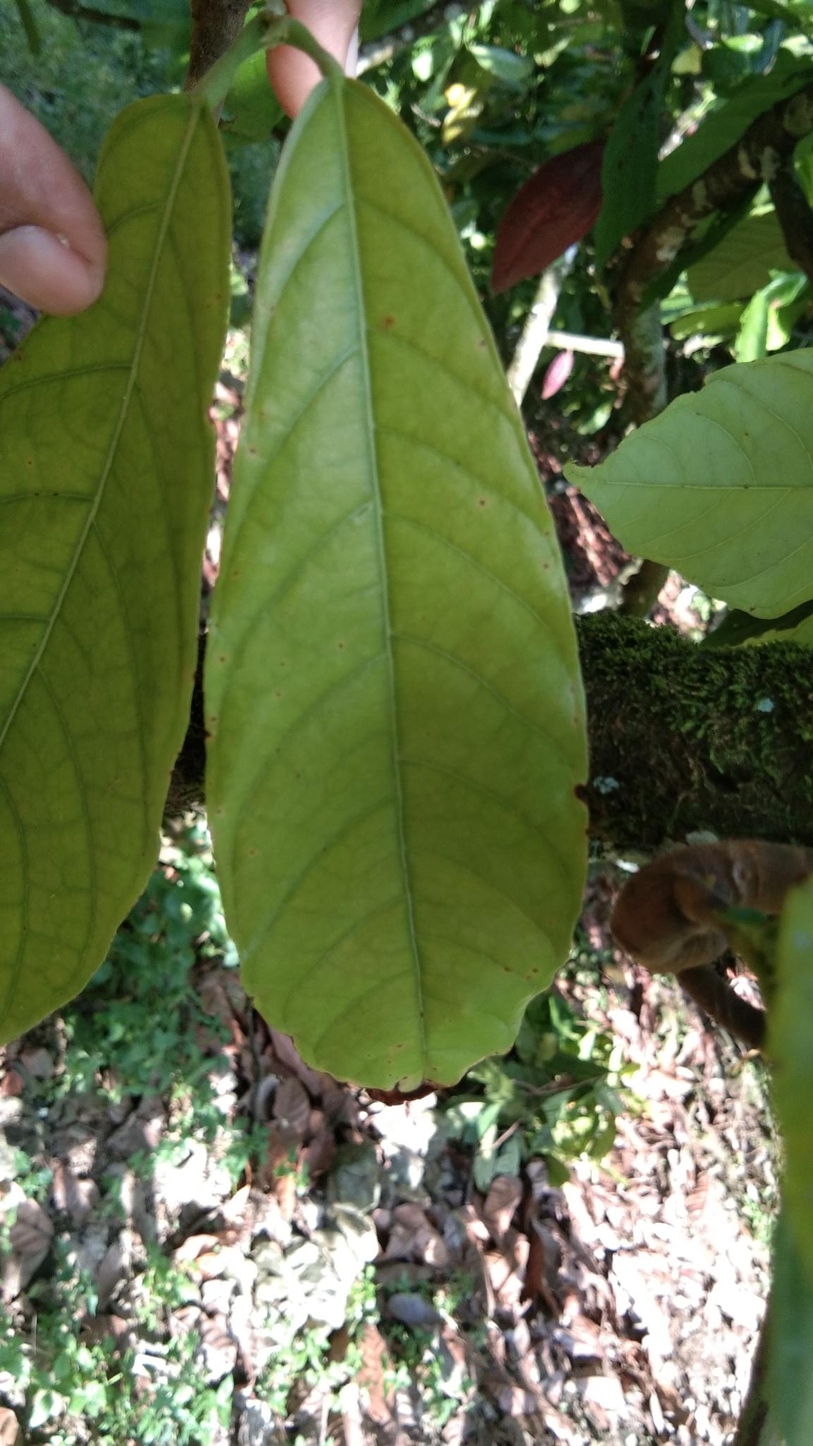Fosforo: (204, 67, 588, 1096)
